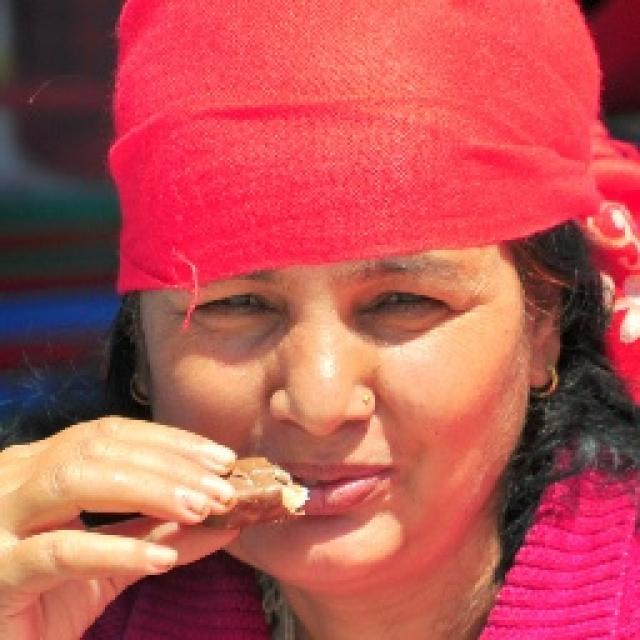earlobe: (531, 264, 568, 391)
